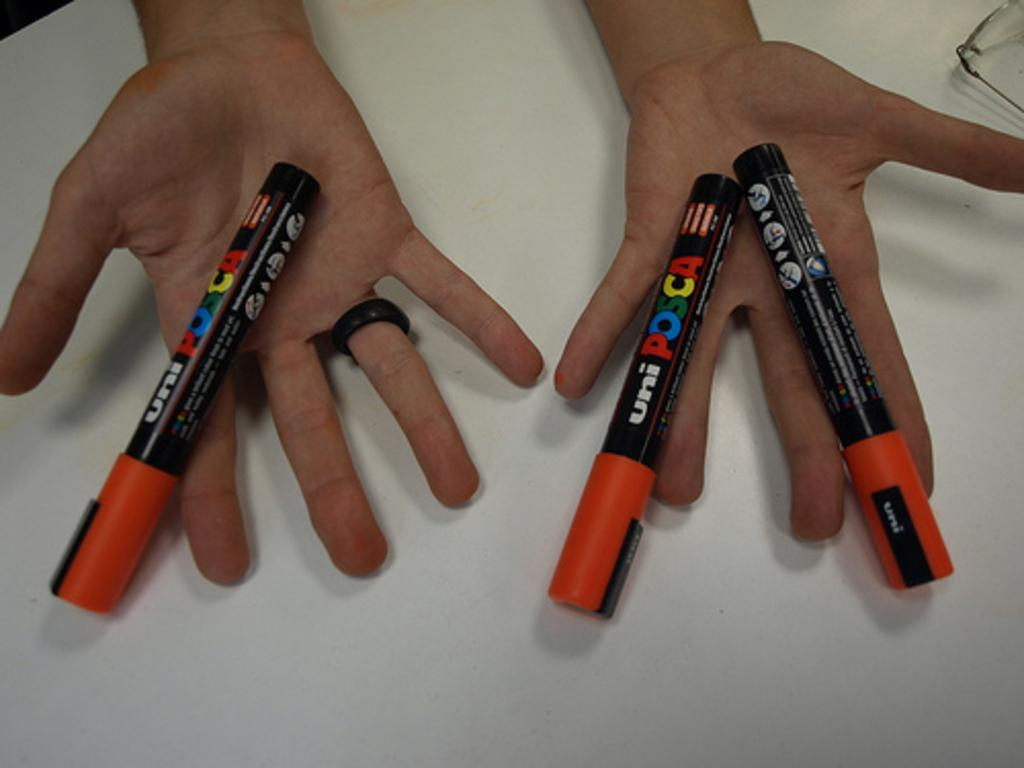pen: (37, 154, 322, 621), (729, 133, 973, 592), (537, 172, 748, 625)
